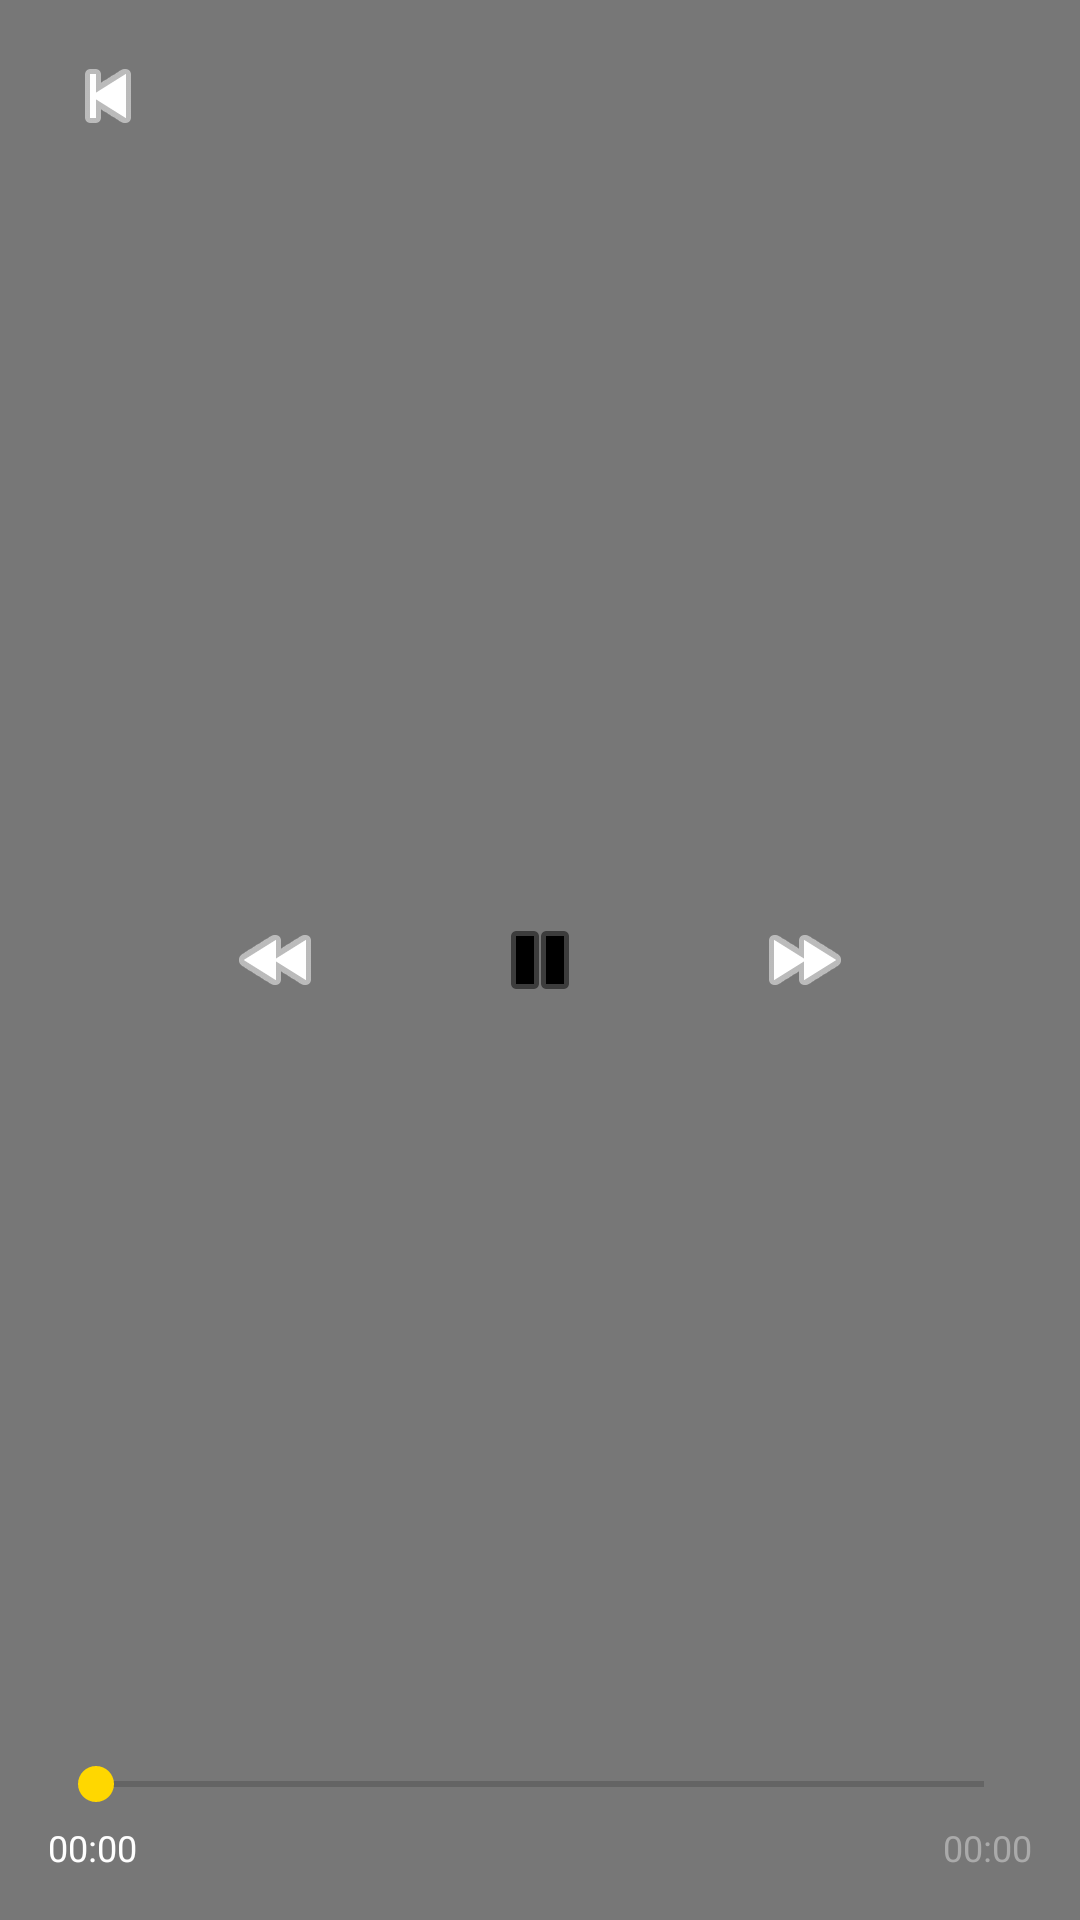

Named icons in this screenshot (1080px x 1920px) and their centers, (x,y):
pause: (540,960)
previous: (108,96)
rew: (275,960)
